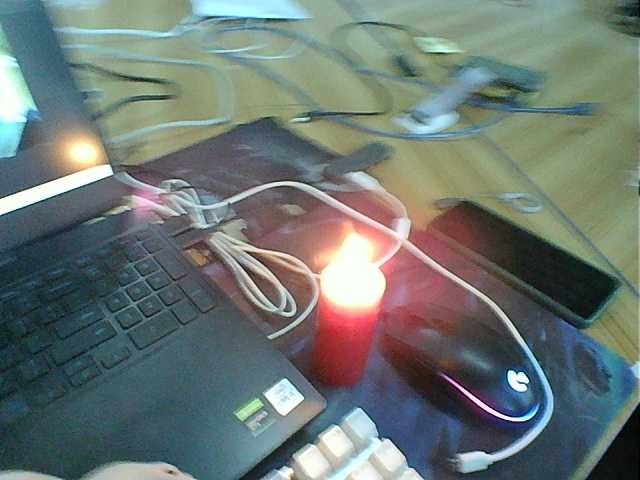candle: (305, 265, 388, 390)
fire: (325, 234, 390, 312), (64, 122, 102, 177)
